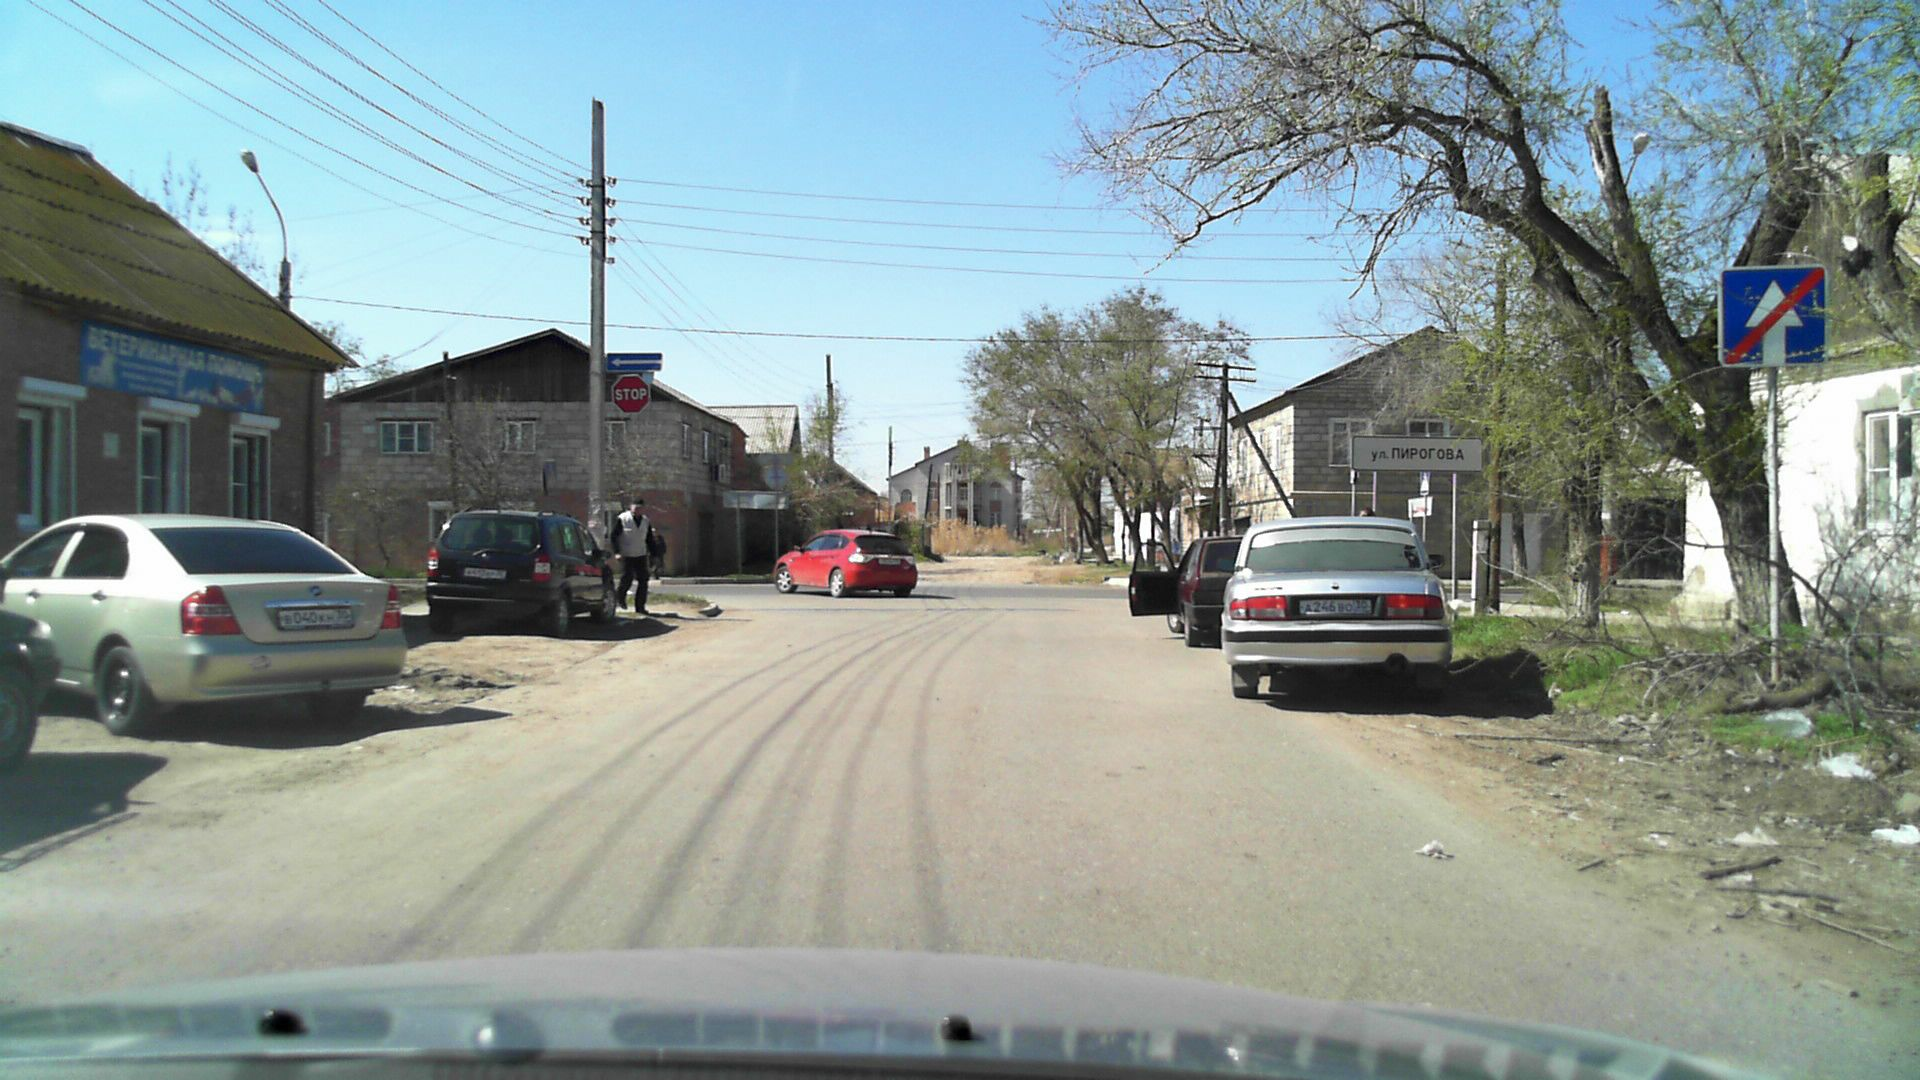One-Way Traffic: (607, 352, 663, 371)
